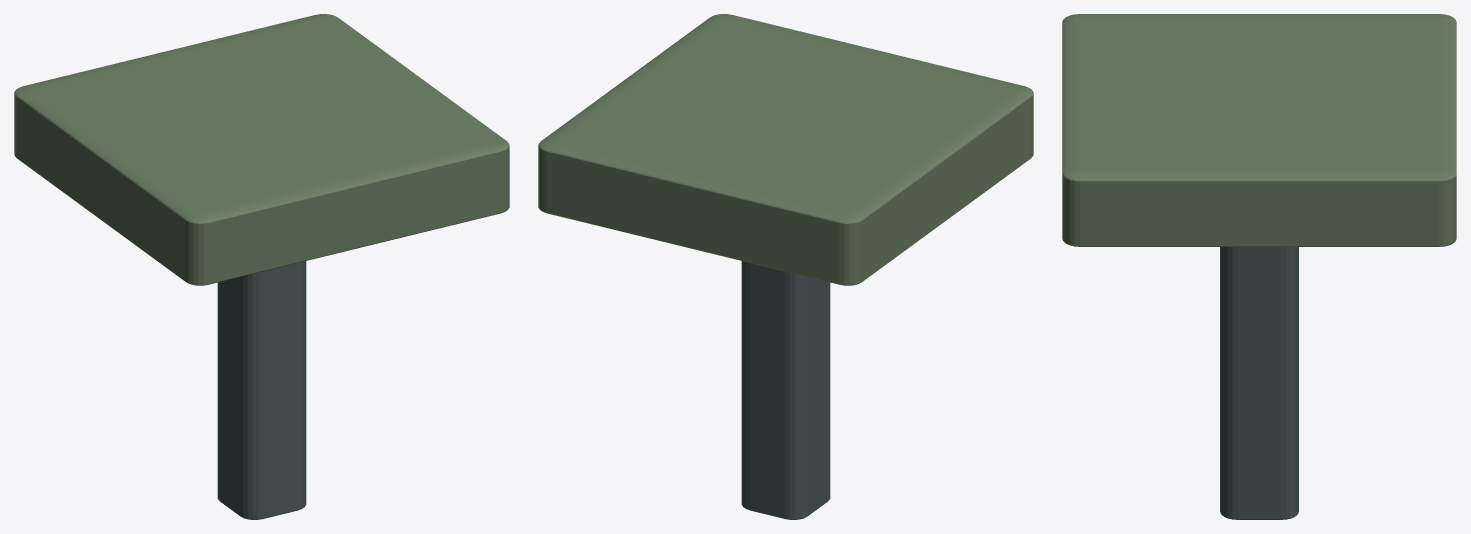
The model's file is Security-chair.glb.
3 views of the same model, side by side, from view 1: azimuth 30°, elevation 25°; view 2: azimuth 150°, elevation 25°; view 3: azimuth 270°, elevation 25° (orthographic). The views are drawn at different scales.
Visible parts, largest first — view 1: Cube; view 2: Cube; view 3: Cube.
Part boxes in pixels (box(x1,y1,x2,y2)): Cube: box(14, 14, 509, 519); Cube: box(538, 14, 1033, 519); Cube: box(1062, 14, 1456, 519).
Size of the model in its own units: 2 by 2.3 by 2.
